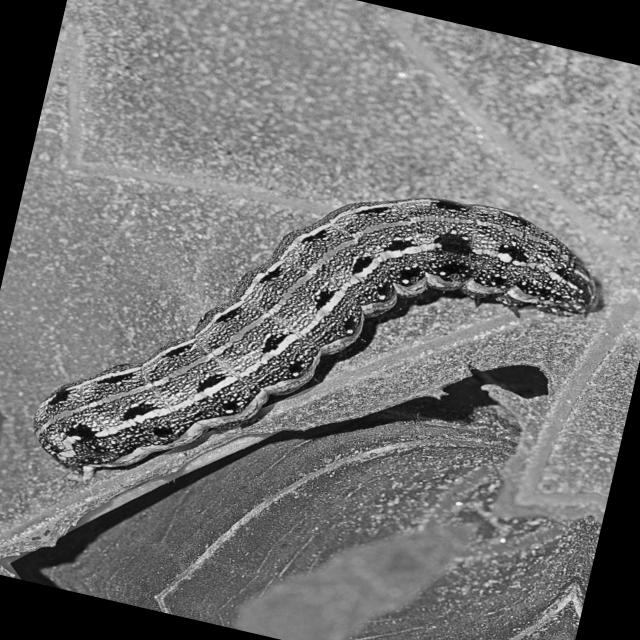Armyworm: (8, 106, 640, 591)
